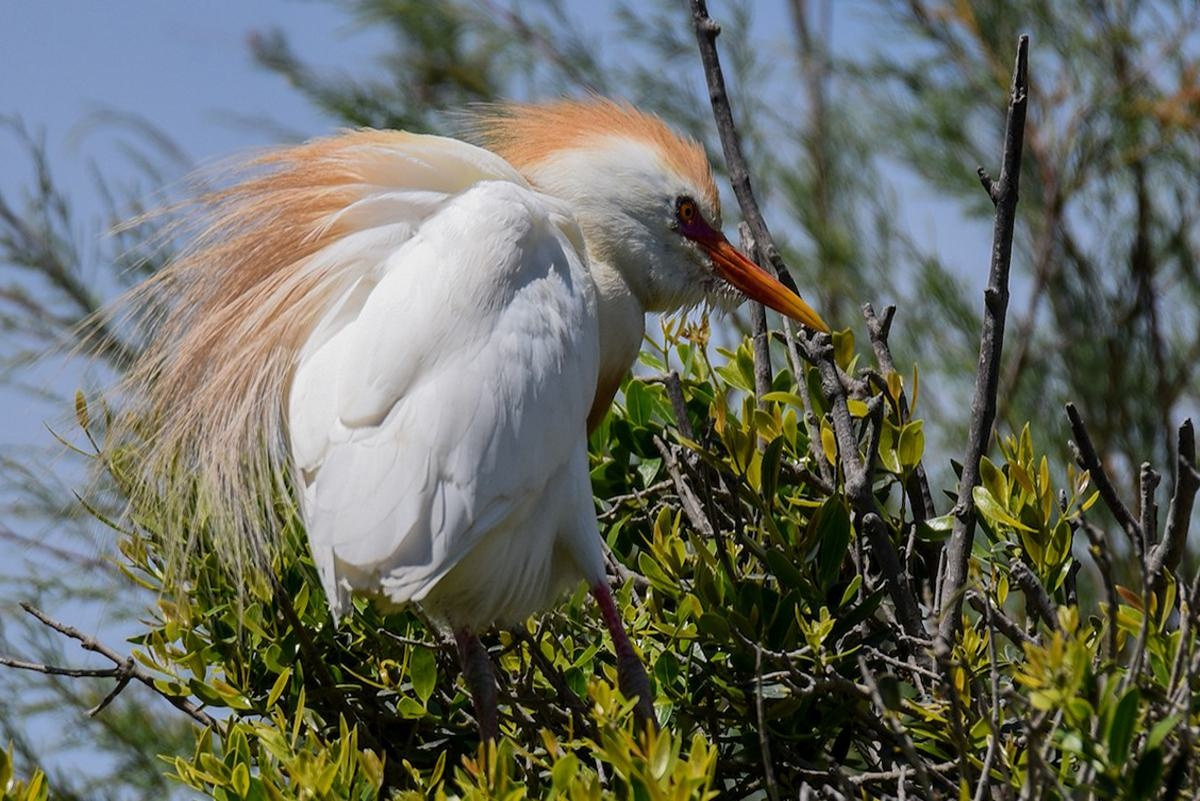egret: (137, 79, 831, 712)
